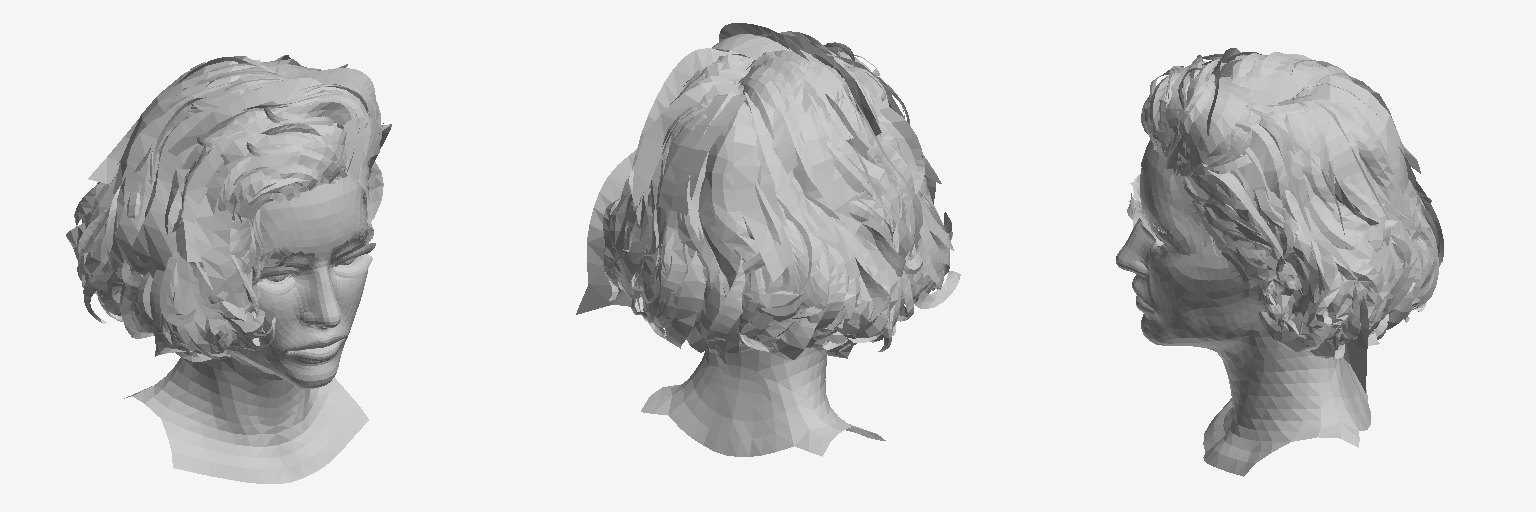
The model's file is Anna.obj.
3 views of the same model, side by side, from view 1: azimuth 30°, elevation 25°; view 2: azimuth 150°, elevation 25°; view 3: azimuth 270°, elevation 25° (orthographic).
Parts seen in each view (by area): view 1: Anna_Hair, Anna_Head, Anna_Eyebrows; view 2: Anna_Hair, Anna_Head; view 3: Anna_Hair, Anna_Head, Anna_Eyebrows.
Part boxes in pixels (x1,y1,x2,y2): Anna_Hair: (66,55,391,361); Anna_Head: (124,198,375,483); Anna_Eyebrows: (252,226,373,276); Anna_Hair: (576,23,960,359); Anna_Head: (641,347,885,456); Anna_Hair: (1127,48,1443,392); Anna_Head: (1116,168,1370,476); Anna_Eyebrows: (1130,175,1189,255).
Bounding box in the file's own units: 27.53 × 34.93 × 26.19.